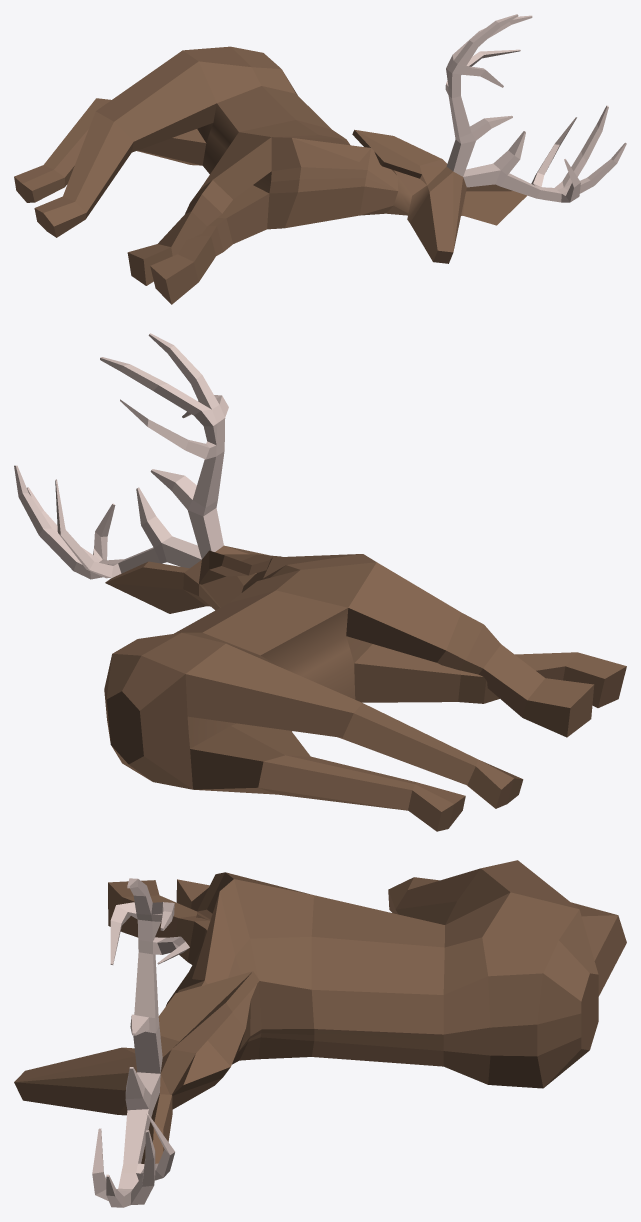
The model's file is Dead_Dear2.fbx.
3 renders of one model, top to bottom at view 1: azimuth 30°, elevation 25°; view 2: azimuth 150°, elevation 25°; view 3: azimuth 270°, elevation 25°, orthographic. The views are drawn at different scales.
Parts seen in each view (by area): view 1: Deer; view 2: Deer; view 3: Deer.
Part boxes in pixels (x1,y1,x2,y2): Deer: [14, 14, 626, 304]; Deer: [14, 333, 626, 831]; Deer: [14, 860, 626, 1207].
Bounding box in the file's own units: 483 × 200 × 365.
